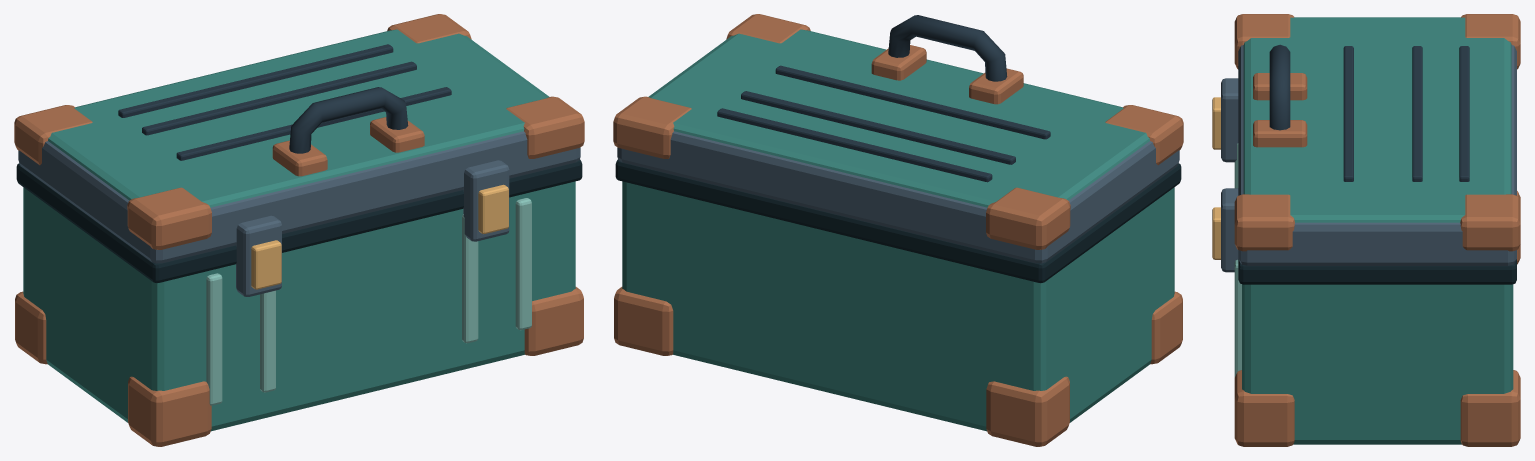
The picture shows the model from 3 angles, left to right: view 1: azimuth 30°, elevation 25°; view 2: azimuth 150°, elevation 25°; view 3: azimuth 270°, elevation 25°; orthographic projection.
Visible parts, largest first — view 1: PR143 enamel and hardware; view 2: PR143 enamel and hardware; view 3: PR143 enamel and hardware.
Boxes of the visible parts, x1=… form: PR143 enamel and hardware: x1=14, y1=14, x2=584, y2=446; PR143 enamel and hardware: x1=613, y1=14, x2=1183, y2=446; PR143 enamel and hardware: x1=1212, y1=14, x2=1520, y2=446.
Bounding box in the file's own units: 0.68 × 0.4316 × 0.4229.
